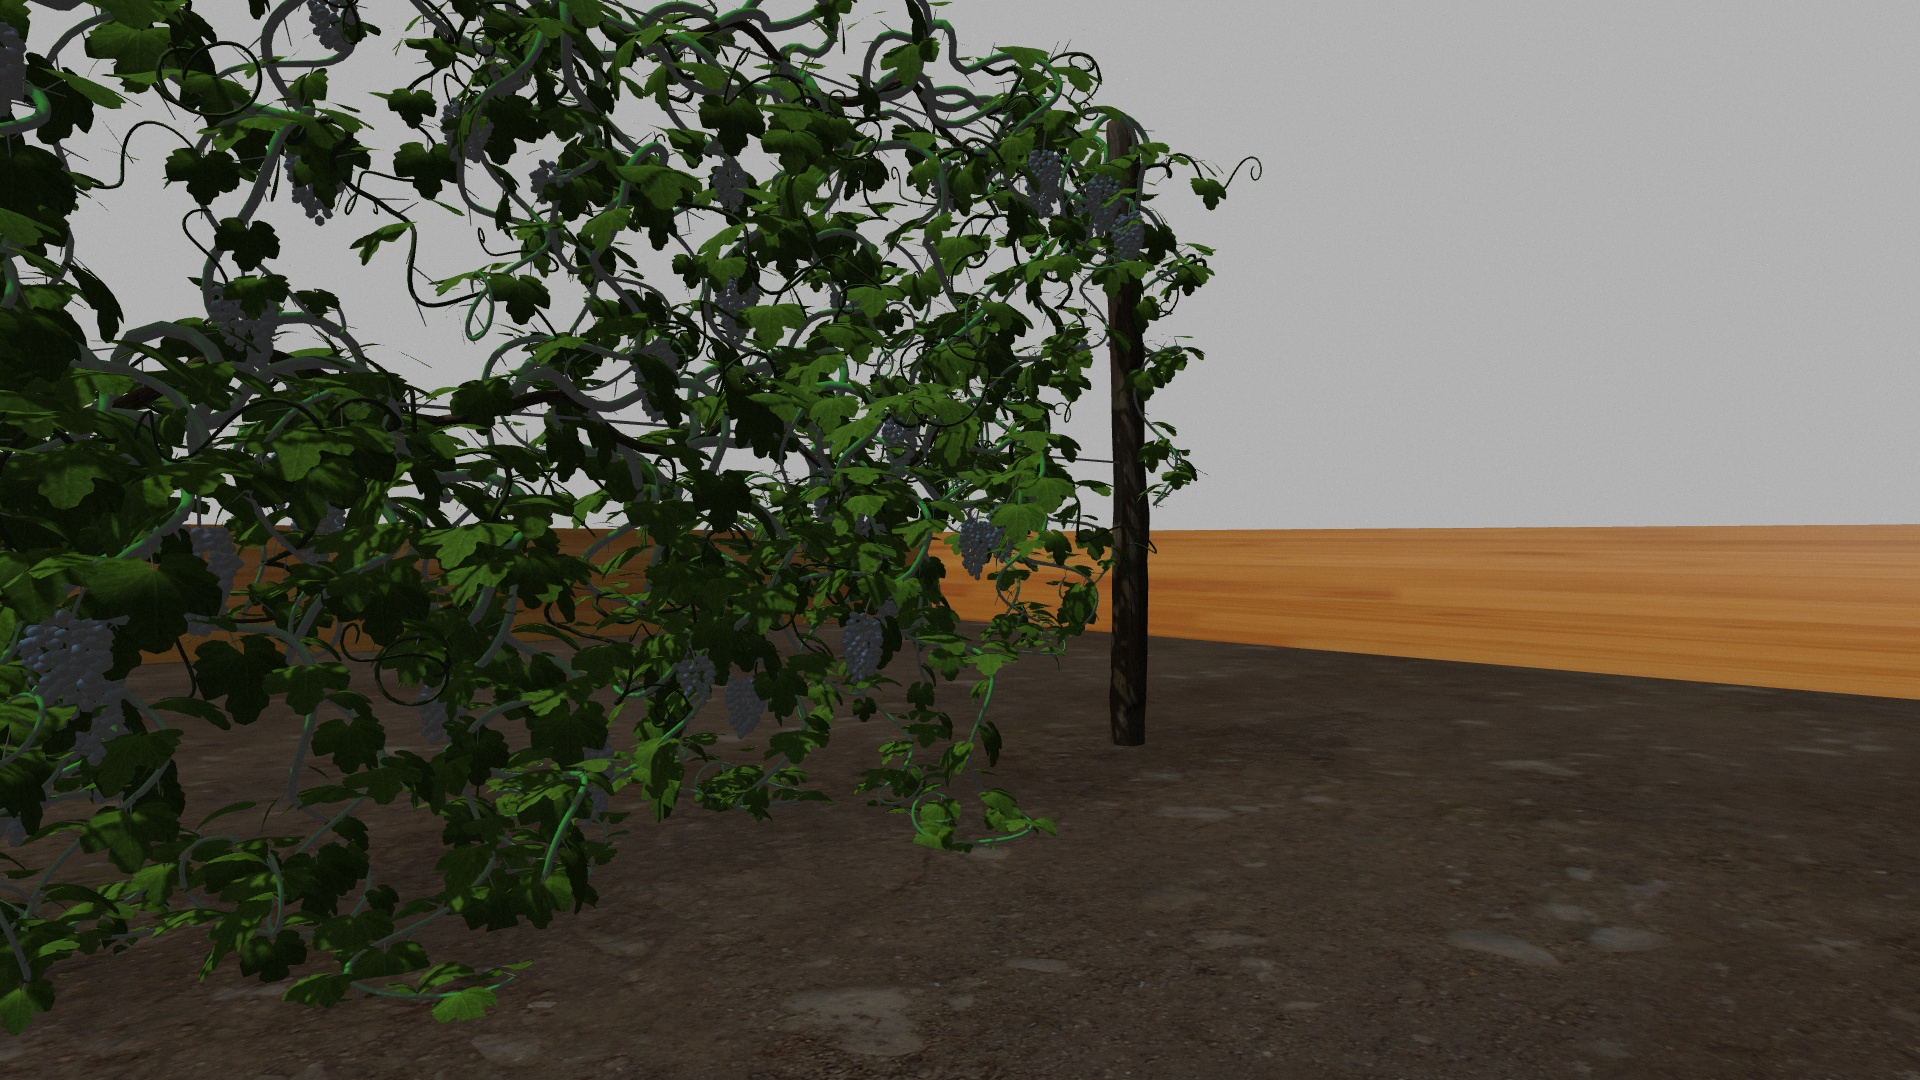grape: (18, 613, 113, 703), (175, 526, 244, 640), (210, 284, 281, 369), (70, 707, 129, 767), (713, 270, 761, 345), (440, 99, 495, 161), (840, 612, 884, 684), (415, 684, 468, 741), (724, 674, 767, 740), (1084, 169, 1125, 239), (1023, 148, 1064, 218), (307, 4, 363, 51), (956, 516, 989, 582), (881, 414, 919, 469), (709, 160, 749, 212), (675, 654, 716, 704), (1112, 214, 1145, 266), (529, 160, 571, 198), (989, 526, 1015, 562)
